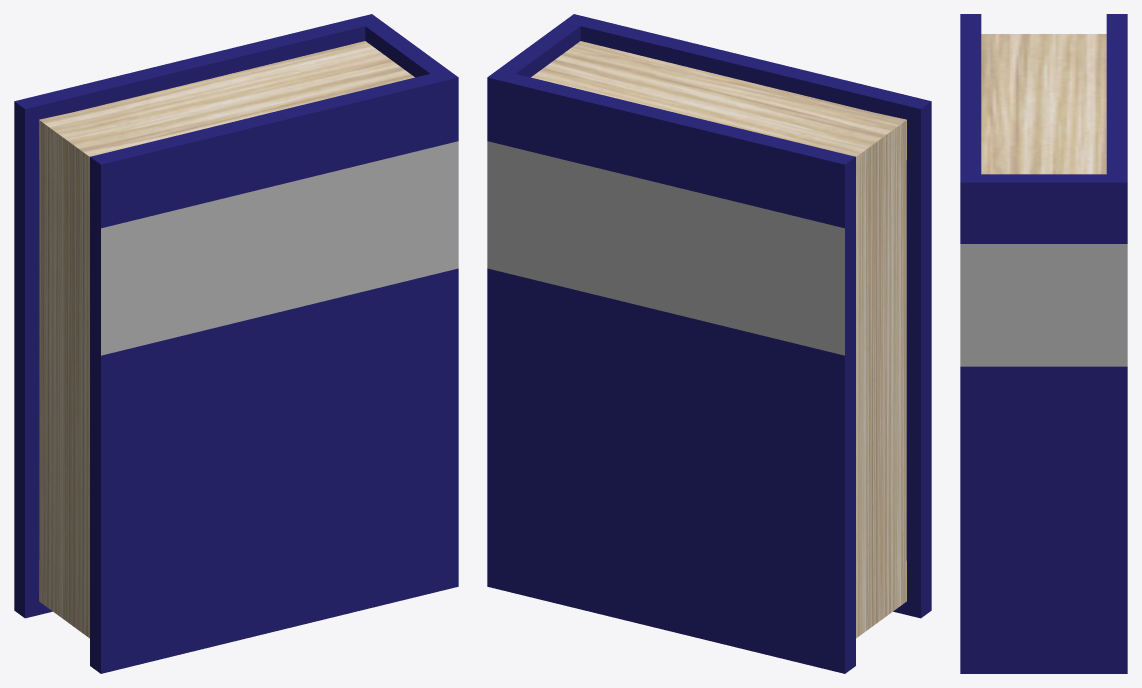
Rendered from blue_book.glb.
3 renders of one model, left to right at view 1: azimuth 30°, elevation 25°; view 2: azimuth 150°, elevation 25°; view 3: azimuth 270°, elevation 25°, orthographic. The views are drawn at different scales.
Visible parts, largest first — view 1: Cube (×3); view 2: Cube (×3); view 3: Cube (×3).
Boxes of the visible parts, x1,y1,x2,y2 form: Cube (×3): (14,14,458,673); Cube (×3): (487,14,931,673); Cube (×3): (960,14,1127,673).
Size of the model in its own units: 4.77 by 6.48 by 2.
3 materials, 1 textured.
